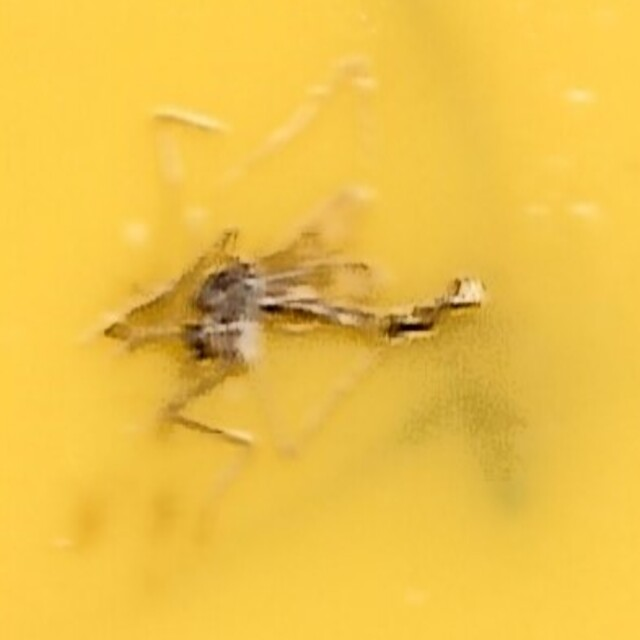Nematocera: (163, 218, 477, 422)
